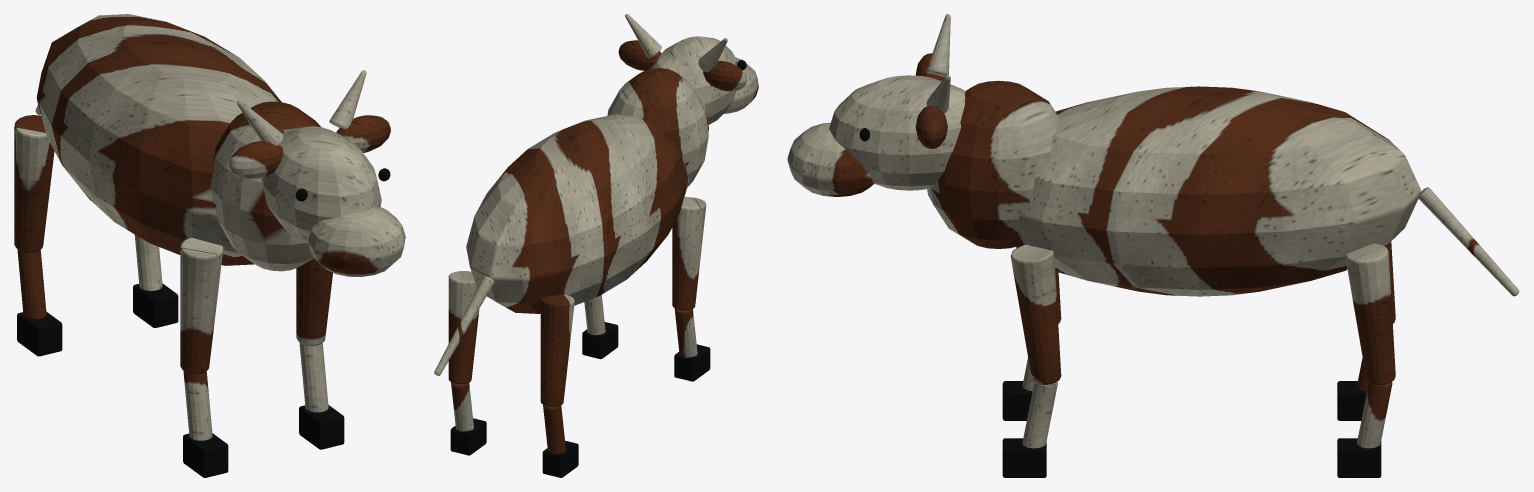
The model's file is PROP-349A323395D9_lod0.glb.
The picture shows the model from 3 angles, left to right: view 1: azimuth 30°, elevation 25°; view 2: azimuth 150°, elevation 25°; view 3: azimuth 270°, elevation 25°; orthographic projection. The views are drawn at different scales.
Visible parts, largest first — view 1: animal_torso.001, upper_leg.001, animal_head.001, animal_neck.001, hoof.001, lower_leg.001, muzzle.001, animal_ears.001, horn.001; view 2: animal_torso.001, upper_leg.001, animal_neck.001, hoof.001, lower_leg.001, animal_head.001, animal_ears.001, tail.001, horn.001, muzzle.001; view 3: animal_torso.001, animal_neck.001, upper_leg.001, animal_head.001, hoof.001, muzzle.001, lower_leg.001, tail.001, horn.001, animal_ears.001.
Part boxes in pixels (x1,y1,x2,y2): animal_torso.001: (36, 14, 281, 265); upper_leg.001: (14, 115, 332, 374); animal_head.001: (262, 126, 381, 242); animal_neck.001: (211, 101, 320, 271); hoof.001: (17, 283, 344, 477); lower_leg.001: (17, 234, 328, 440); muzzle.001: (308, 206, 405, 276); animal_ears.001: (229, 115, 390, 179); horn.001: (237, 70, 366, 145); animal_torso.001: (466, 114, 688, 313); upper_leg.001: (448, 197, 706, 406); animal_neck.001: (607, 68, 708, 187); hoof.001: (450, 322, 710, 477); lower_leg.001: (451, 295, 697, 453); animal_head.001: (650, 36, 737, 124); animal_ears.001: (618, 40, 746, 91); tail.001: (434, 276, 494, 375); horn.001: (625, 14, 727, 72); muzzle.001: (724, 57, 758, 113); animal_torso.001: (1010, 86, 1421, 296); animal_neck.001: (927, 80, 1058, 248); upper_leg.001: (1010, 241, 1395, 384); animal_head.001: (829, 75, 965, 190); hoof.001: (1002, 381, 1381, 477); muzzle.001: (787, 122, 873, 196); lower_leg.001: (1022, 358, 1392, 448); tail.001: (1418, 187, 1519, 296); horn.001: (926, 14, 950, 113); animal_ears.001: (915, 53, 947, 148).
Size of the model in its own units: 0.7 by 1.5 by 2.49.
Materials: 3 (3 with a texture image).
